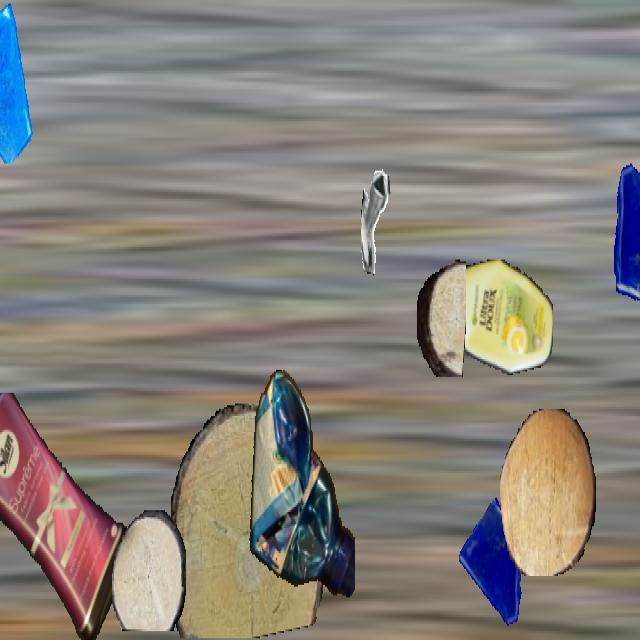glass: (457, 498, 535, 636), (601, 151, 640, 311), (0, 2, 35, 162)
metal: (361, 169, 423, 279)
plastic: (0, 393, 132, 638), (246, 366, 354, 608), (440, 259, 552, 377)
wood: (167, 404, 327, 638), (500, 409, 596, 576), (112, 510, 186, 631), (417, 258, 465, 375)
